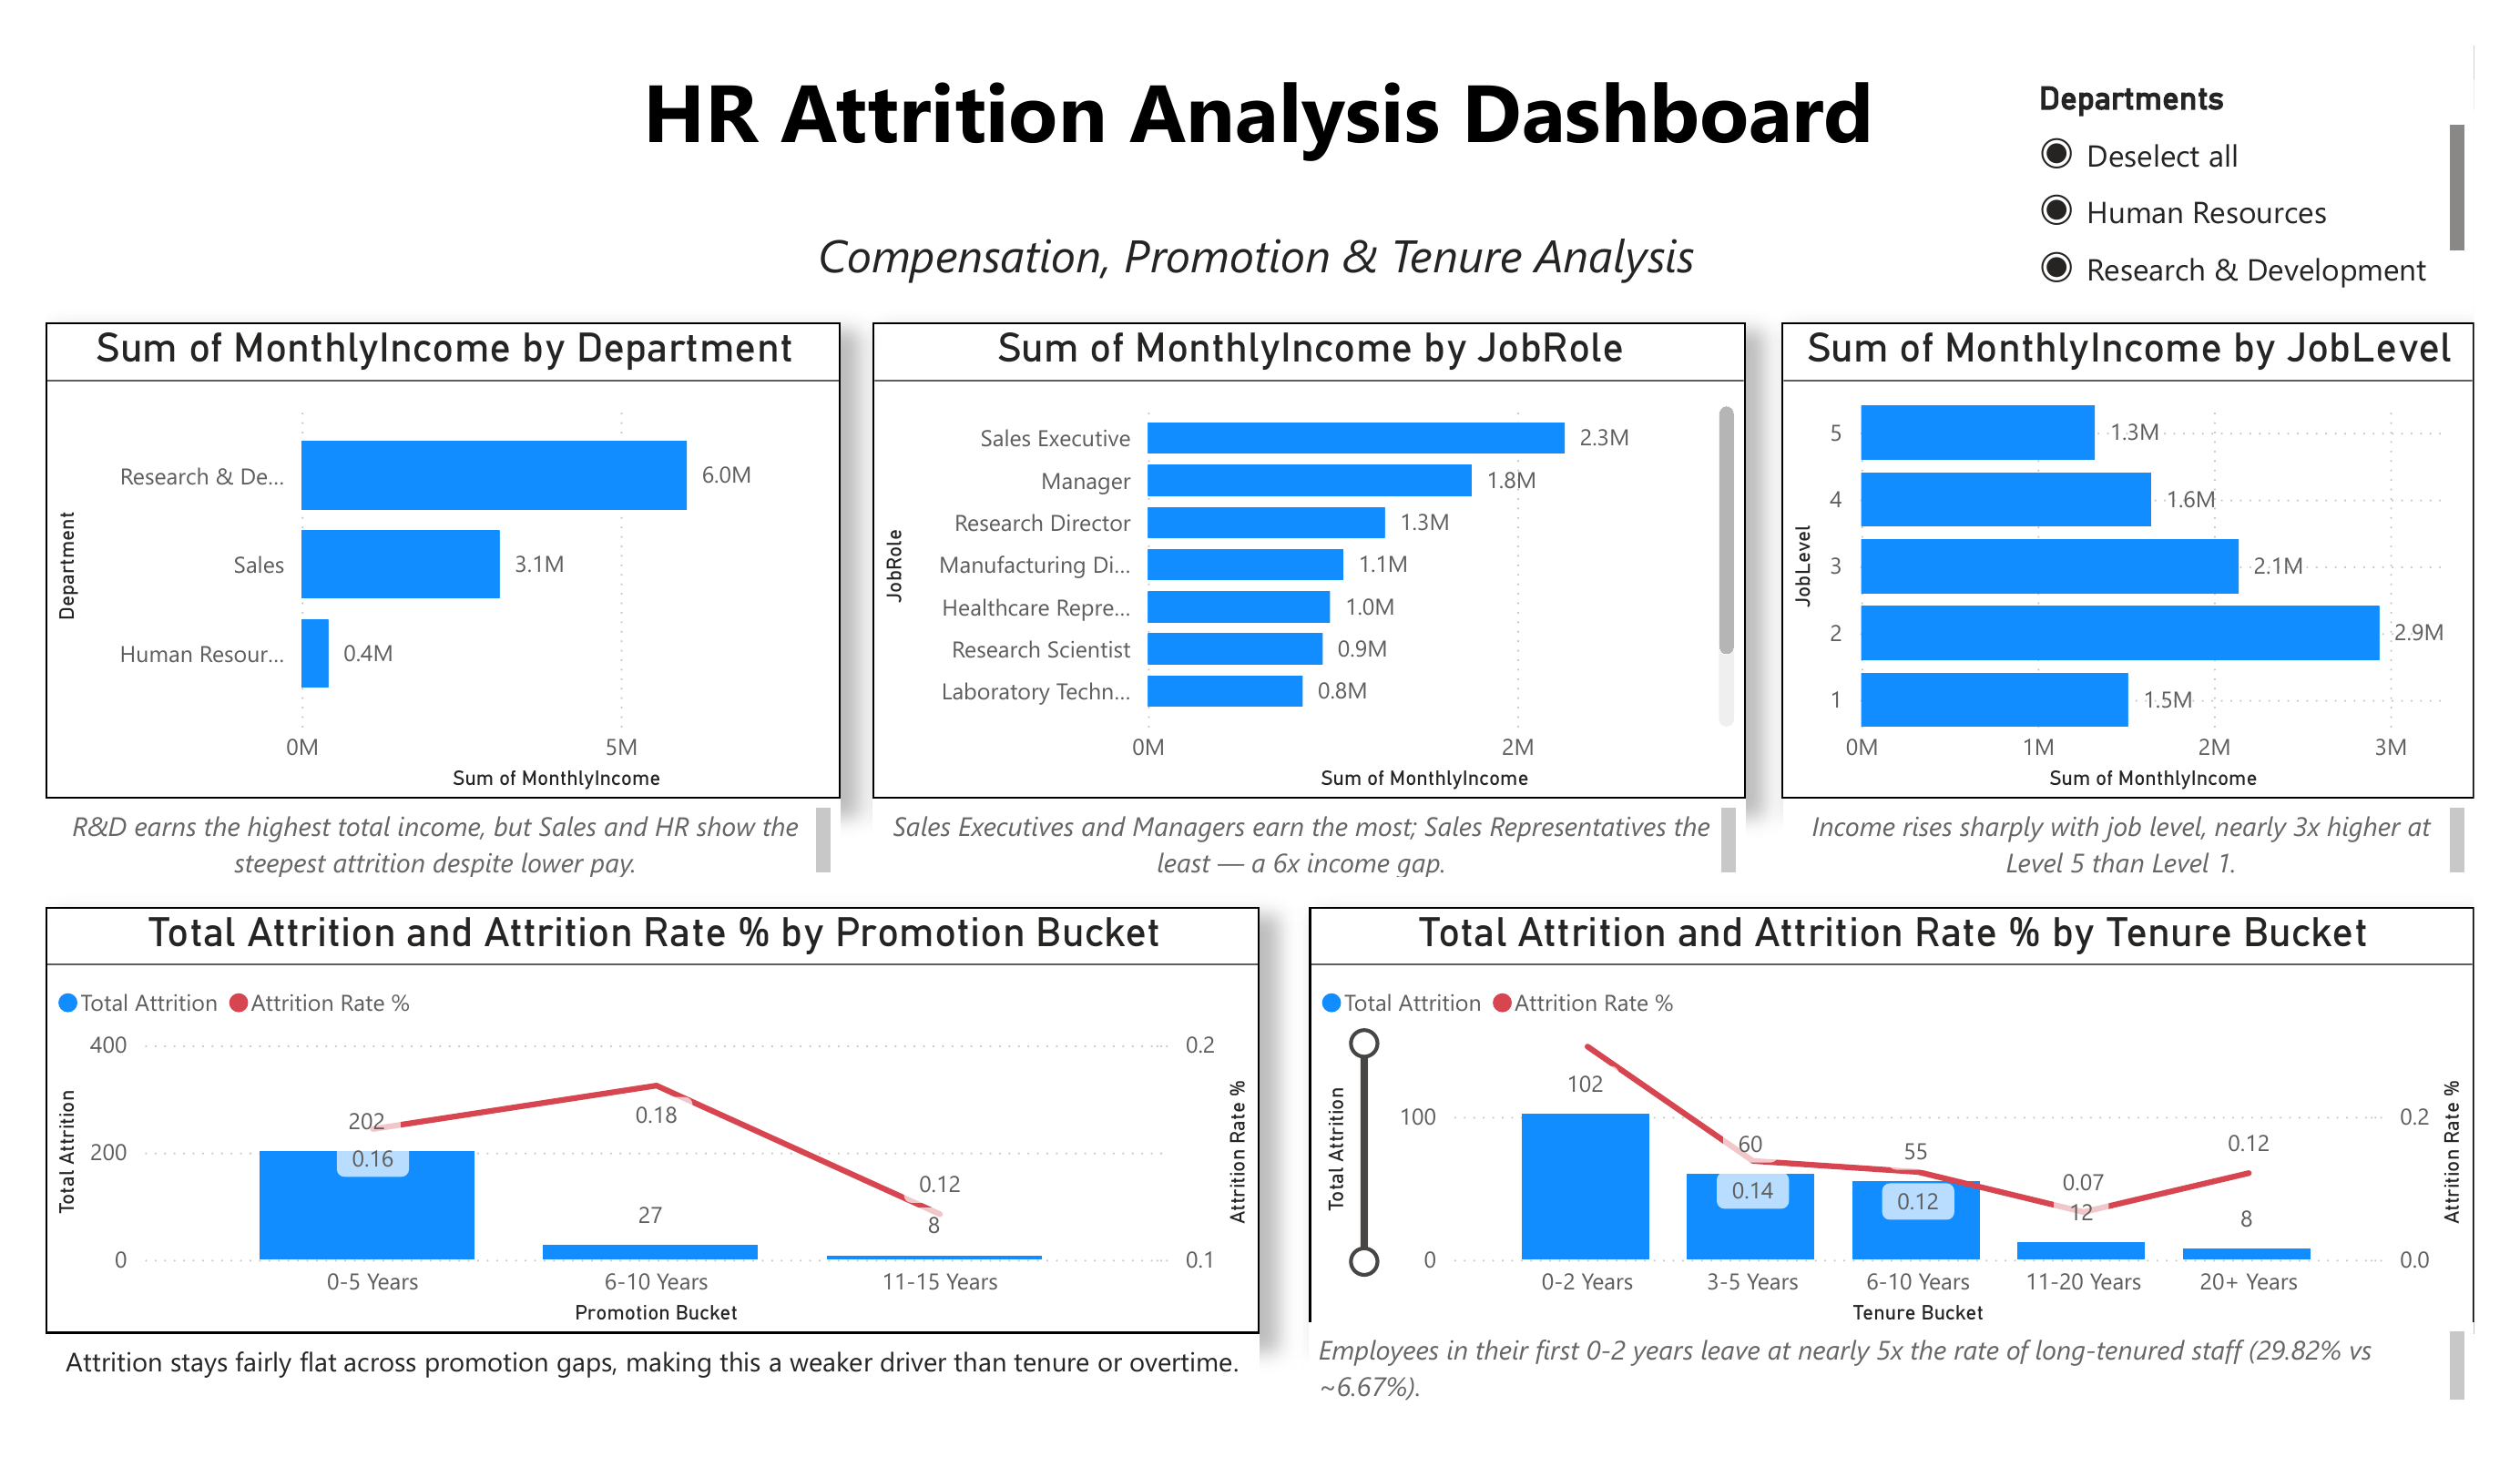

Layout of this report page (visuals, bound fields, positions):
{"tool":"powerbi","page":{"name":"Compensation & Career Growth","canvas":[1280,720],"ordinal":2},"visuals":[{"type":"lineStackedColumnComboChart","fields":{"Y2":["hr - Copy.Attrition Rate %"],"Y":["hr - Copy.Total Attrition"],"Category":["hr - Copy.Promotion Bucket"]},"box":[0,453.7,639.5,225.4],"z":0},{"type":"clusteredBarChart","fields":{"Category":["hr - Copy.JobRole"],"Y":["Sum(hr - Copy.MonthlyIncome)"]},"box":[436.1,146.3,459.5,250.2],"z":1000},{"type":"clusteredBarChart","fields":{"Category":["hr - Copy.JobLevel"],"Y":["Sum(hr - Copy.MonthlyIncome)"]},"box":[914.6,146.3,365.9,250.2],"z":2000},{"type":"lineStackedColumnComboChart","fields":{"Category":["hr - Copy.Tenure Bucket"],"Y":["hr - Copy.Total Attrition"],"Y2":["hr - Copy.Attrition Rate %"]},"box":[665.9,453.7,614.6,225.4],"z":3000},{"type":"clusteredBarChart","fields":{"Y":["Sum(hr - Copy.MonthlyIncome)"],"Category":["hr - Copy.Department"]},"box":[0,146.3,418.5,250.2],"z":4000},{"type":"listSlicer","title":"Departments","fields":{"Values":["hr - Copy.Department"]},"box":[1046.3,17.6,234.1,118.5],"z":5000},{"type":"textbox","box":[276.6,0,725.9,67.3],"z":6000},{"type":"textbox","box":[361.5,89.3,554.6,46.8],"z":7000},{"type":"textbox","box":[0,396.6,418.5,46.8],"z":8000},{"type":"textbox","box":[436.1,396.6,459.5,46.8],"z":9000},{"type":"textbox","box":[916.1,396.6,364.4,46.8],"z":10000},{"type":"textbox","box":[0,679,639.5,35.1],"z":11000},{"type":"textbox","box":[665.9,673.2,614.6,46.8],"z":12000}]}

Visuals, with their boxes on the page's 1280x720 design canvas (x1, y1, x2, y2). These are canvas units, not pixel positions in the 2520x1457 screenshot, which may show the page scaled, cropped or inside an application window:
lineStackedColumnComboChart - hr - Copy.Attrition Rate % x hr - Copy.Total Attrition: {"left": 0, "top": 454, "right": 640, "bottom": 679}
clusteredBarChart - hr - Copy.JobRole x Sum(hr - Copy.MonthlyIncome): {"left": 436, "top": 146, "right": 896, "bottom": 396}
clusteredBarChart - hr - Copy.JobLevel x Sum(hr - Copy.MonthlyIncome): {"left": 915, "top": 146, "right": 1280, "bottom": 396}
lineStackedColumnComboChart - hr - Copy.Tenure Bucket x hr - Copy.Total Attrition: {"left": 666, "top": 454, "right": 1280, "bottom": 679}
clusteredBarChart - Sum(hr - Copy.MonthlyIncome) x hr - Copy.Department: {"left": 0, "top": 146, "right": 418, "bottom": 396}
"Departments" listSlicer: {"left": 1046, "top": 18, "right": 1280, "bottom": 136}
textbox: {"left": 277, "top": 0, "right": 1002, "bottom": 67}
textbox: {"left": 362, "top": 89, "right": 916, "bottom": 136}
textbox: {"left": 0, "top": 397, "right": 418, "bottom": 443}
textbox: {"left": 436, "top": 397, "right": 896, "bottom": 443}
textbox: {"left": 916, "top": 397, "right": 1280, "bottom": 443}
textbox: {"left": 0, "top": 679, "right": 640, "bottom": 714}
textbox: {"left": 666, "top": 673, "right": 1280, "bottom": 720}
